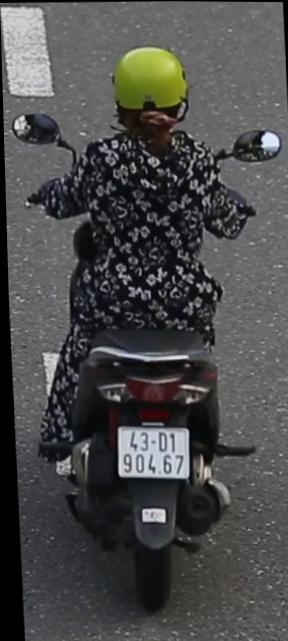LP: (111, 420, 191, 487)
helmet: (106, 40, 196, 156)
